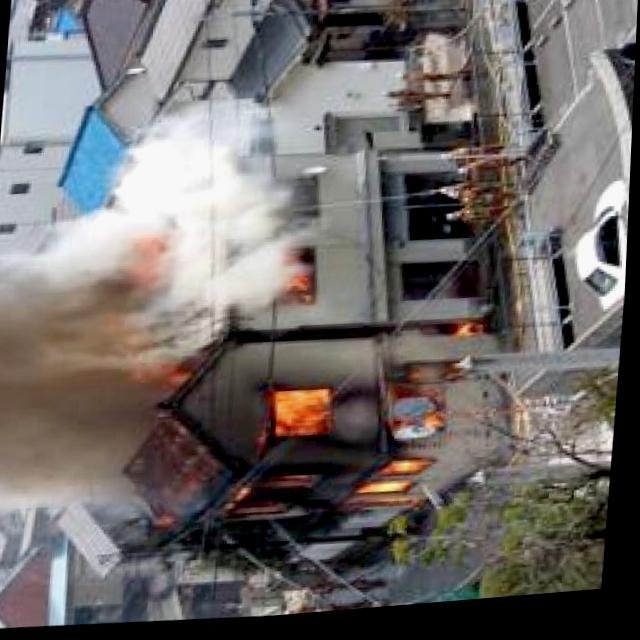Fire: (213, 312, 500, 544), (278, 238, 324, 306)
Smoke: (213, 312, 500, 544), (278, 247, 323, 306)
